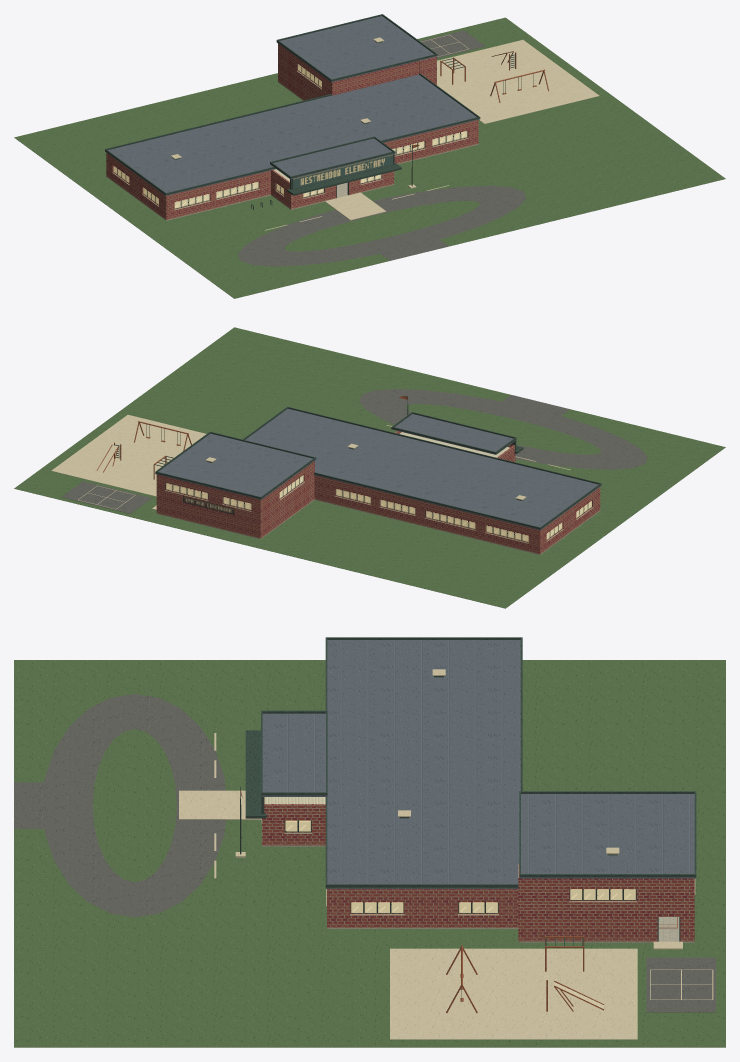
The model's file is westmeadow-1955-mid.glb.
3 renders of one model, top to bottom at view 1: azimuth 30°, elevation 25°; view 2: azimuth 150°, elevation 25°; view 3: azimuth 270°, elevation 25°, orthographic. The views are drawn at different scales.
Parts seen in each view (by area): view 1: lot, building_shell, sign_name; view 2: lot, building_shell; view 3: lot, building_shell.
Part boxes in pixels (bbox=[...]): lot: bbox=[14, 17, 725, 298]; building_shell: bbox=[105, 14, 480, 220]; sign_name: bbox=[292, 154, 393, 189]; lot: bbox=[14, 327, 725, 608]; building_shell: bbox=[152, 406, 601, 554]; lot: bbox=[14, 660, 725, 1047]; building_shell: bbox=[245, 637, 696, 949].
Size of what is drawn, in the model's own units: 85 by 7.13 by 66.
Materials: 11 (11 with a texture image).
